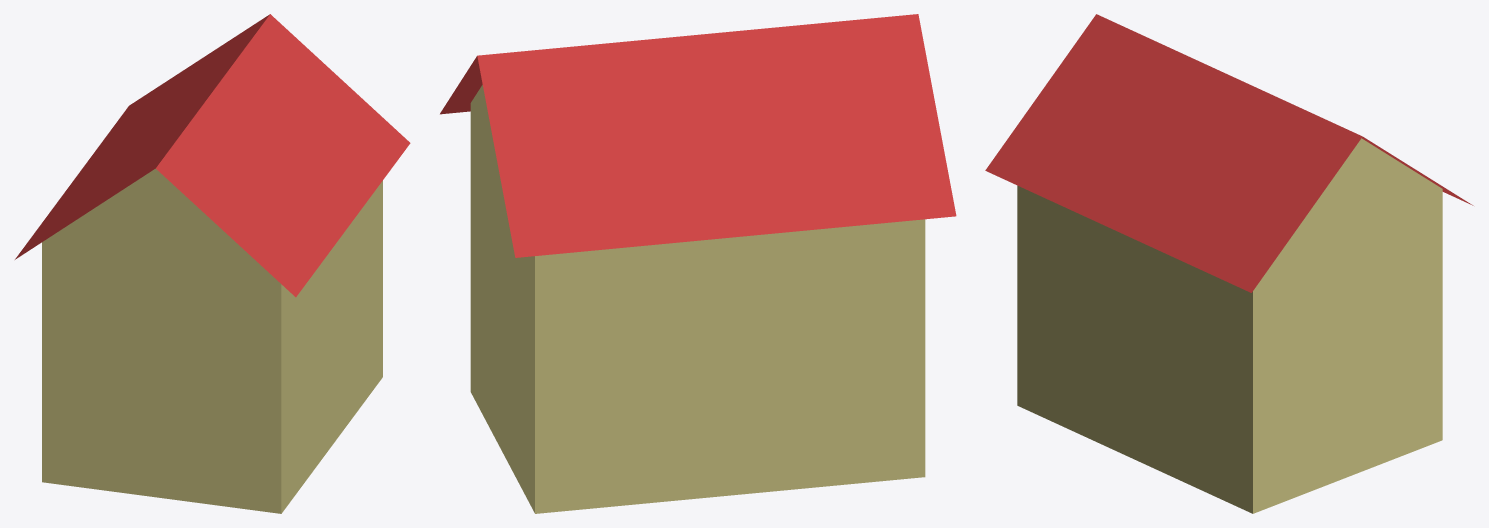
The picture shows the model from 3 angles, left to right: view 1: azimuth 30°, elevation 25°; view 2: azimuth 150°, elevation 25°; view 3: azimuth 270°, elevation 25°; orthographic projection. The views are drawn at different scales.
Bounding box in the file's own units: 16.32 × 16.14 × 12.66.
